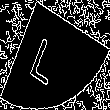L_NE: (36, 25, 74, 85)
